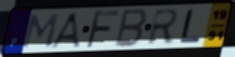A: (48, 11, 82, 49)
B: (113, 8, 150, 49)
F: (85, 9, 121, 50)
L: (178, 9, 202, 44)
M: (20, 12, 60, 49)
R: (146, 8, 181, 47)
